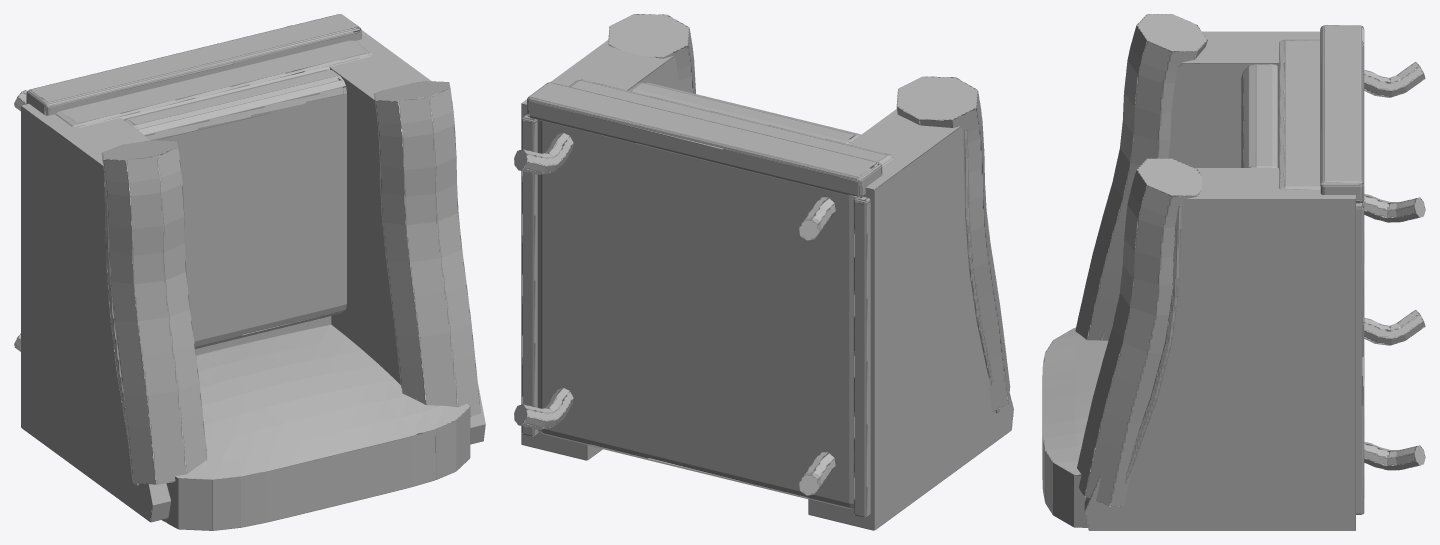
The model's file is pz_chair_seating_indoor_03_victorian_2.obj.
The picture shows the model from 3 angles, left to right: view 1: azimuth 30°, elevation 25°; view 2: azimuth 150°, elevation 25°; view 3: azimuth 270°, elevation 25°; orthographic projection. The views are drawn at different scales.
Visible parts, largest first — view 1: Victorian_2_|_rounded_seat_cushion_0, Victorian_2_|_closed_curved_padded_back, Victorian_2_|_closed_upholstered_side_-1, Victorian_2_|_EDITABLE_rolled_upholstered_arm_-1, Victorian_2_|_EDITABLE_rolled_upholstered_arm_1, Victorian_2_|_closed_upholstered_side_1, Victorian_2_|_native_front_wooden_apron, Victorian_2_|_closed_upholstered_base, Victorian_2_|_EDITABLE_outside_wood_trim_-1; view 2: Victorian_2_|_closed_upholstered_base, Victorian_2_|_closed_upholstered_side_-1, Victorian_2_|_native_front_wooden_apron, Victorian_2_|_EDITABLE_rolled_upholstered_arm_-1, Victorian_2_|_wood_side_plinth_-0.443, Victorian_2_|_closed_upholstered_side_1, Victorian_2_|_wood_side_plinth_0.443, Victorian_2_|_EDITABLE_rolled_upholstered_arm_1, Victorian_2_|_rounded_seat_cushion_0, Victorian_2_|_EDITABLE_curved_wood_leg_(0.35,_-0.3), Victorian_2_|_EDITABLE_curved_wood_leg_(0.35,_0.35), Victorian_2_|_EDITABLE_outside_wood_trim_-1 (+2 smaller); view 3: Victorian_2_|_closed_upholstered_side_1, Victorian_2_|_EDITABLE_rolled_upholstered_arm_1, Victorian_2_|_EDITABLE_rolled_upholstered_arm_-1, Victorian_2_|_closed_upholstered_side_-1, Victorian_2_|_closed_curved_padded_back, Victorian_2_|_native_front_wooden_apron, Victorian_2_|_closed_upholstered_base, Victorian_2_|_rounded_seat_cushion_0, Victorian_2_|_wood_side_plinth_0.443, Victorian_2_|_EDITABLE_outside_wood_trim_1, Victorian_2_|_EDITABLE_curved_wood_leg_(-0.35,_-0.3), Victorian_2_|_EDITABLE_curved_wood_leg_(-0.35,_0.35) (+2 smaller).
Boxes of the visible parts, <box> form: Victorian_2_|_rounded_seat_cushion_0: <box>123,69,347,348</box>; Victorian_2_|_closed_curved_padded_back: <box>148,324,470,530</box>; Victorian_2_|_closed_upholstered_side_-1: <box>21,102,212,522</box>; Victorian_2_|_EDITABLE_rolled_upholstered_arm_-1: <box>101,140,207,484</box>; Victorian_2_|_EDITABLE_rolled_upholstered_arm_1: <box>373,81,480,421</box>; Victorian_2_|_closed_upholstered_side_1: <box>292,30,485,452</box>; Victorian_2_|_native_front_wooden_apron: <box>26,14,361,115</box>; Victorian_2_|_closed_upholstered_base: <box>41,31,373,355</box>; Victorian_2_|_EDITABLE_outside_wood_trim_-1: <box>104,173,138,485</box>; Victorian_2_|_closed_upholstered_base: <box>537,79,897,509</box>; Victorian_2_|_closed_upholstered_side_-1: <box>808,109,1013,530</box>; Victorian_2_|_native_front_wooden_apron: <box>527,82,882,198</box>; Victorian_2_|_EDITABLE_rolled_upholstered_arm_-1: <box>896,76,1010,411</box>; Victorian_2_|_wood_side_plinth_-0.443: <box>853,186,878,517</box>; Victorian_2_|_closed_upholstered_side_1: <box>521,40,679,460</box>; Victorian_2_|_wood_side_plinth_0.443: <box>521,115,538,436</box>; Victorian_2_|_EDITABLE_rolled_upholstered_arm_1: <box>608,14,695,93</box>; Victorian_2_|_rounded_seat_cushion_0: <box>628,82,860,144</box>; Victorian_2_|_EDITABLE_curved_wood_leg_(0.35,_-0.3): <box>514,387,573,429</box>; Victorian_2_|_EDITABLE_curved_wood_leg_(0.35,_0.35): <box>514,132,573,174</box>; Victorian_2_|_EDITABLE_outside_wood_trim_-1: <box>963,130,1000,413</box>; Victorian_2_|_closed_upholstered_side_1: <box>1084,168,1355,530</box>; Victorian_2_|_EDITABLE_rolled_upholstered_arm_1: <box>1077,158,1201,506</box>; Victorian_2_|_EDITABLE_rolled_upholstered_arm_-1: <box>1075,14,1207,340</box>; Victorian_2_|_closed_upholstered_side_-1: <box>1100,31,1320,340</box>; Victorian_2_|_closed_curved_padded_back: <box>1042,325,1108,527</box>; Victorian_2_|_native_front_wooden_apron: <box>1320,25,1364,203</box>; Victorian_2_|_closed_upholstered_base: <box>1274,39,1360,207</box>; Victorian_2_|_rounded_seat_cushion_0: <box>1241,64,1284,167</box>; Victorian_2_|_wood_side_plinth_0.443: <box>1356,202,1364,514</box>; Victorian_2_|_EDITABLE_outside_wood_trim_1: <box>1124,205,1182,483</box>; Victorian_2_|_EDITABLE_curved_wood_leg_(-0.35,_-0.3): <box>1363,310,1425,345</box>; Victorian_2_|_EDITABLE_curved_wood_leg_(-0.35,_0.35): <box>1364,62,1425,97</box>.
Bounding box in the file's own units: 0.9794 × 0.9446 × 0.9106.
1 material, 1 textured.
